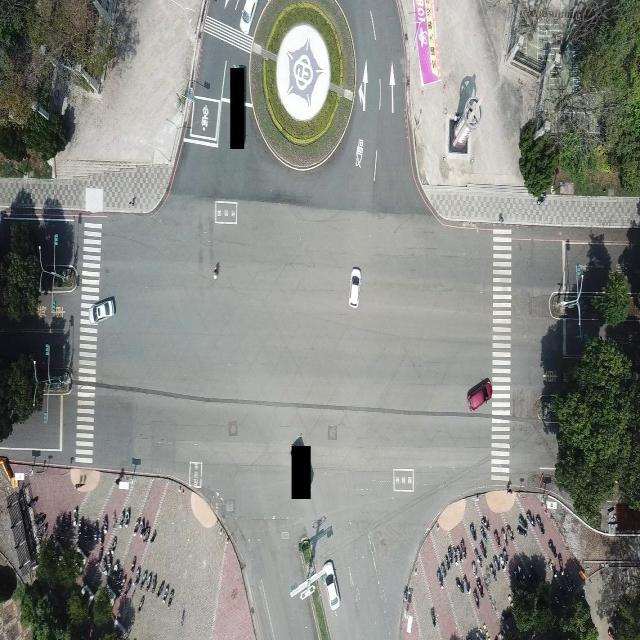bike: (33, 510, 46, 530), (517, 512, 527, 536), (536, 512, 546, 535), (479, 535, 488, 560), (458, 539, 467, 564), (492, 527, 501, 551), (548, 537, 558, 558), (456, 572, 465, 595), (437, 563, 445, 587), (480, 514, 489, 534), (121, 505, 129, 526), (469, 520, 477, 541), (168, 582, 174, 609), (430, 604, 437, 627), (489, 560, 496, 583), (134, 566, 142, 586), (103, 550, 111, 570), (504, 525, 512, 544), (28, 492, 38, 507), (160, 581, 167, 602), (447, 545, 454, 566), (471, 554, 478, 575), (138, 594, 146, 612), (180, 605, 186, 629), (110, 534, 117, 554), (473, 590, 480, 610), (102, 513, 109, 533), (136, 516, 142, 537), (480, 624, 488, 639), (72, 505, 78, 525), (144, 569, 149, 592), (501, 544, 506, 565), (149, 524, 154, 545), (153, 571, 157, 595)
car: (320, 558, 345, 612), (465, 373, 492, 412), (348, 266, 361, 307), (93, 296, 115, 320)
